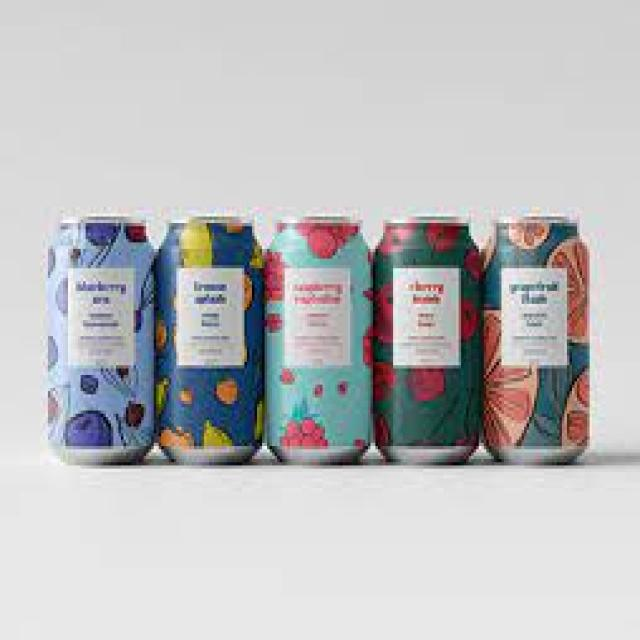Cans: (38, 201, 159, 475), (368, 204, 486, 468), (151, 204, 267, 472), (479, 210, 597, 472), (259, 207, 373, 472)
